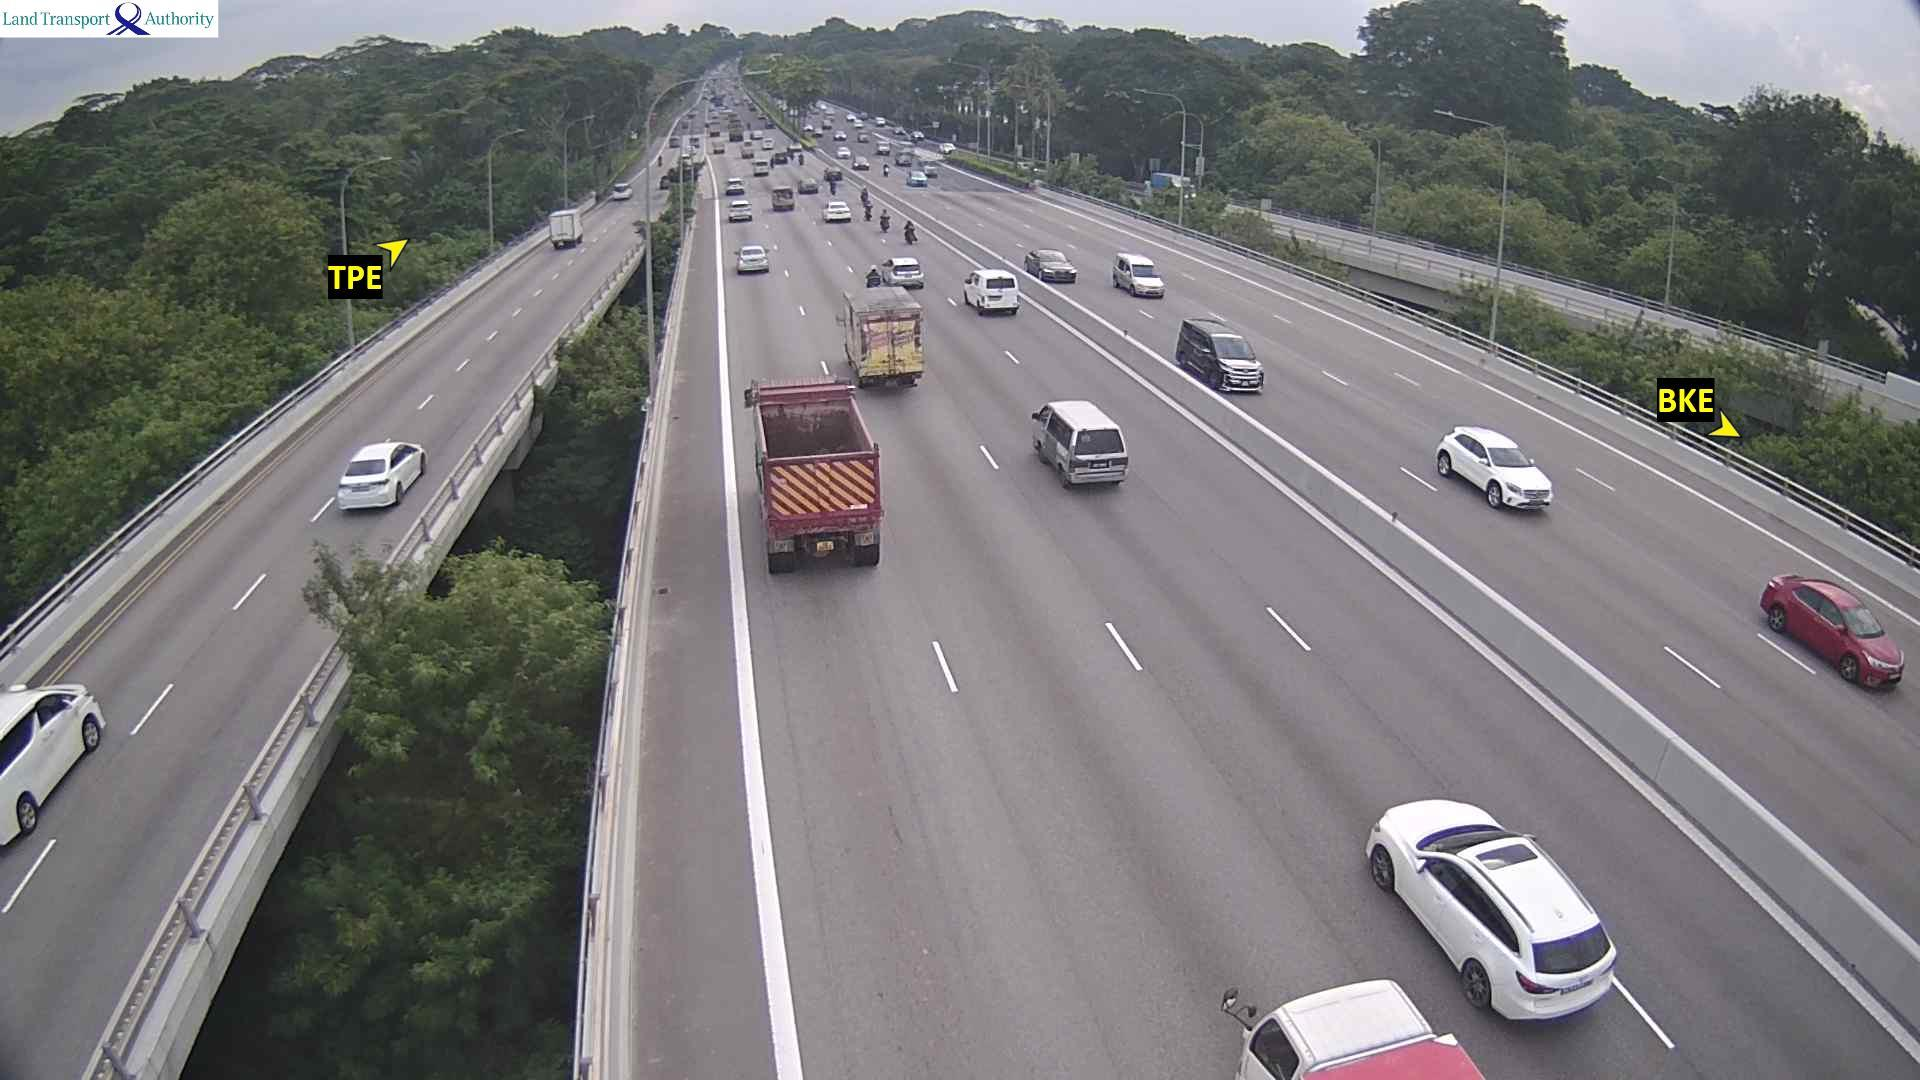cars: (1364, 796, 1618, 1022), (1220, 977, 1485, 1078), (0, 680, 105, 847), (1758, 572, 1904, 690), (1434, 424, 1553, 510), (1030, 398, 1128, 487), (1174, 316, 1264, 393), (336, 439, 426, 512), (962, 268, 1020, 315), (1111, 251, 1164, 297), (1024, 248, 1077, 282), (880, 256, 924, 288), (734, 243, 768, 273), (822, 198, 851, 222), (770, 186, 794, 210), (727, 198, 752, 221), (610, 180, 632, 199), (823, 165, 843, 185), (723, 176, 745, 194), (751, 157, 771, 175), (797, 176, 818, 193), (906, 169, 926, 186), (894, 150, 912, 168), (851, 155, 870, 169), (711, 138, 725, 156), (875, 138, 890, 154), (923, 162, 939, 176), (938, 142, 955, 155), (749, 125, 762, 142), (831, 130, 847, 142), (739, 144, 752, 156), (835, 145, 850, 155), (762, 137, 775, 148), (859, 132, 869, 140)
motorcycle: (901, 216, 920, 248), (865, 266, 883, 287), (877, 210, 889, 227), (859, 183, 869, 197), (866, 199, 872, 218)
trucks: (742, 371, 883, 574), (835, 285, 925, 388), (548, 208, 583, 248)
